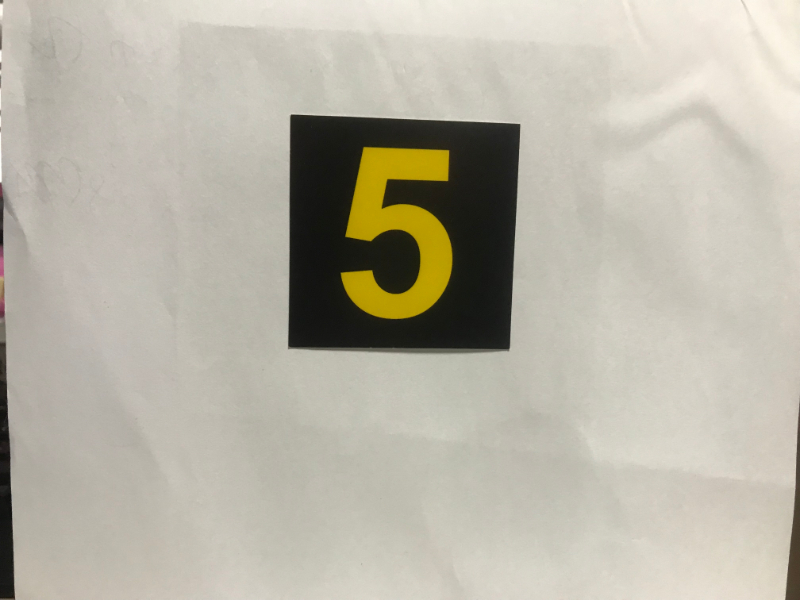Five-10: (297, 127, 506, 343)
